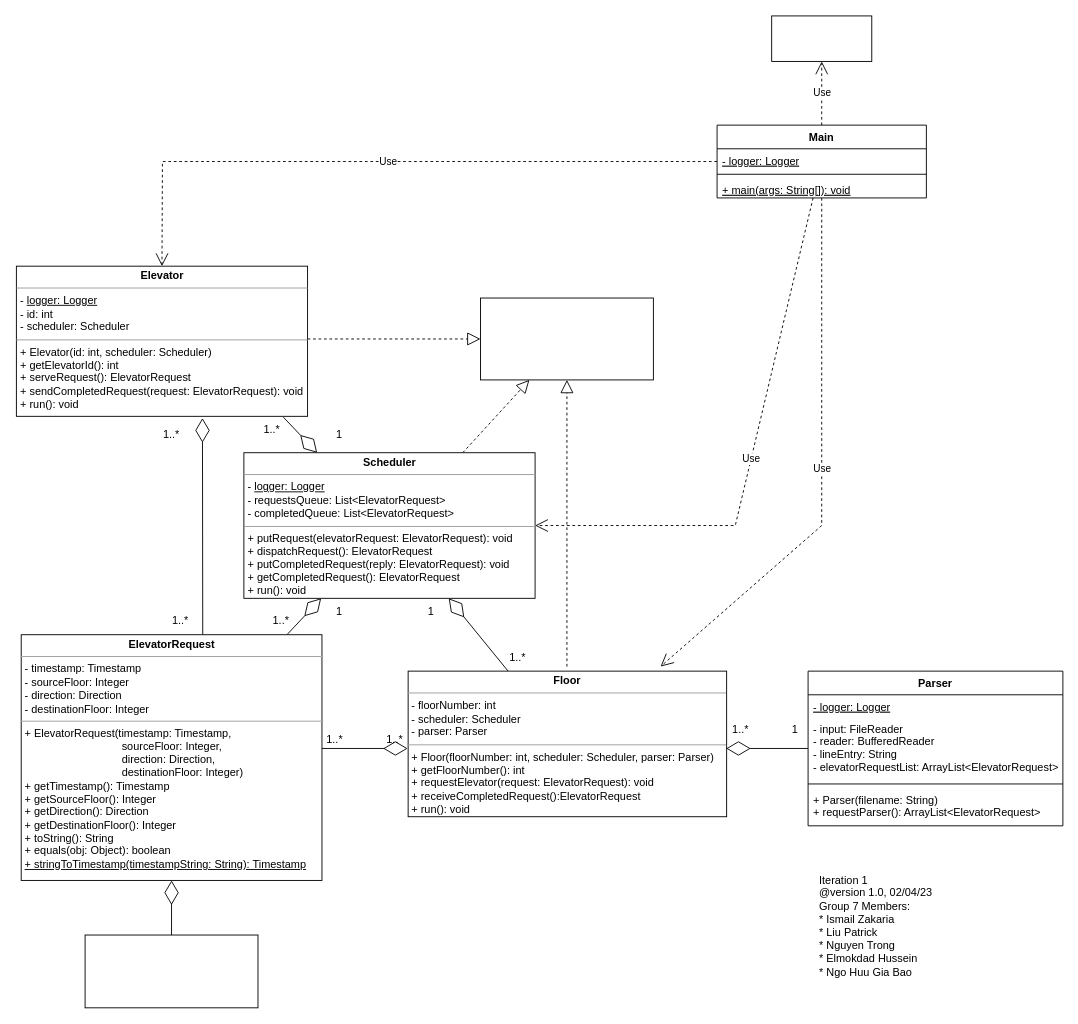
Image size: 1078x1024. Some labels were removed from this diagram. The shapes that lost their labels are listed below. From the top down, each one's box as (x1, y1, x2, y2) in pixels, then its label:
(771, 15, 872, 61): java.lang.Thread
(480, 297, 653, 380): <<Interface>> Runnable + run(): void
(84, 934, 258, 1008): <<Enumeration>> Direction UP DOWN
